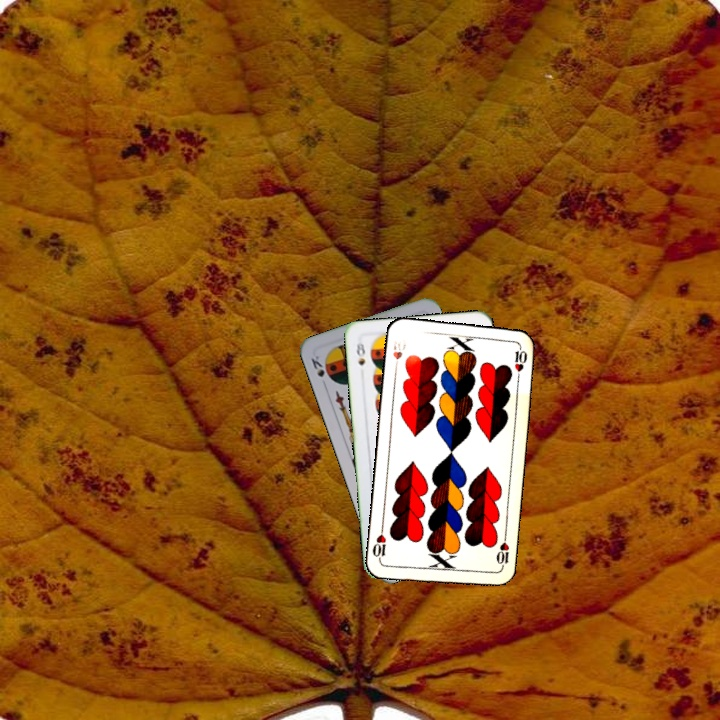H10: (492, 531, 511, 572), (389, 336, 408, 373)
S8: (352, 336, 368, 368)
SK: (307, 351, 329, 390)
